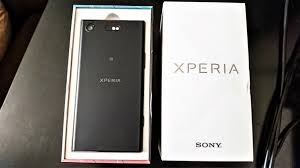sony: (70, 15, 146, 155)
